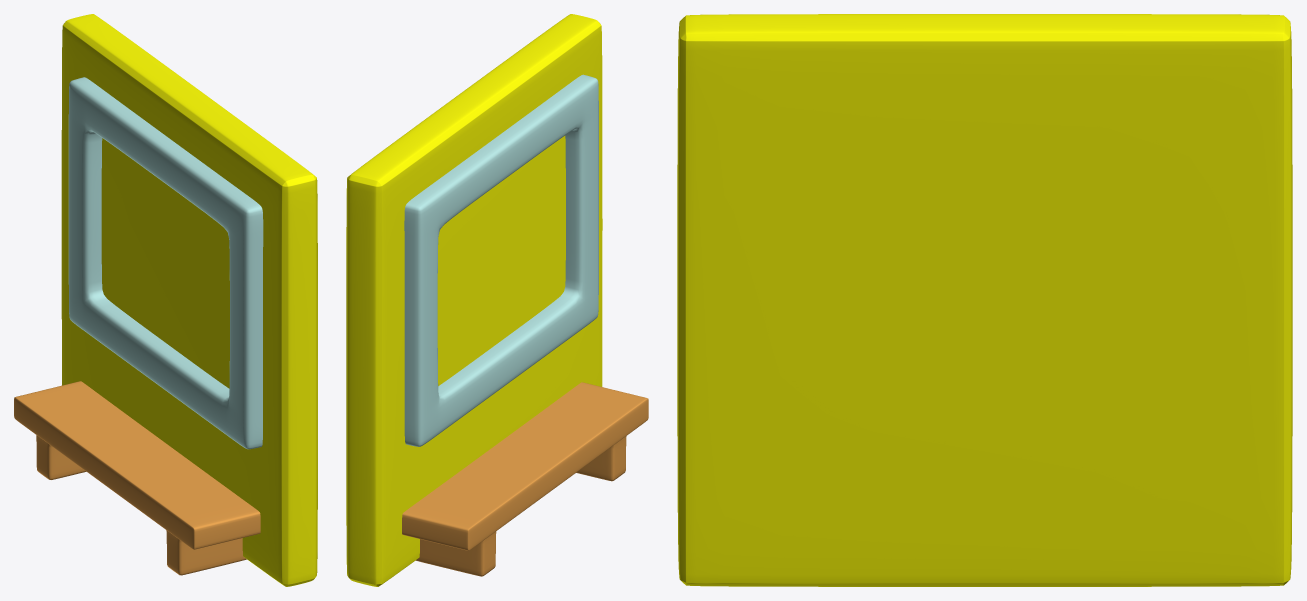
The picture shows the model from 3 angles, left to right: view 1: azimuth 30°, elevation 25°; view 2: azimuth 150°, elevation 25°; view 3: azimuth 270°, elevation 25°; orthographic projection. The views are drawn at different scales.
Parts seen in each view (by area): view 1: polySurface1270; view 2: polySurface1270; view 3: polySurface1270.
Part boxes in pixels (x1,y1,x2,y2): polySurface1270: (14,14,317,586); polySurface1270: (346,14,648,586); polySurface1270: (677,14,1292,586).
Bounding box in the file's own units: 0.2686 × 0.9995 × 0.9995.
